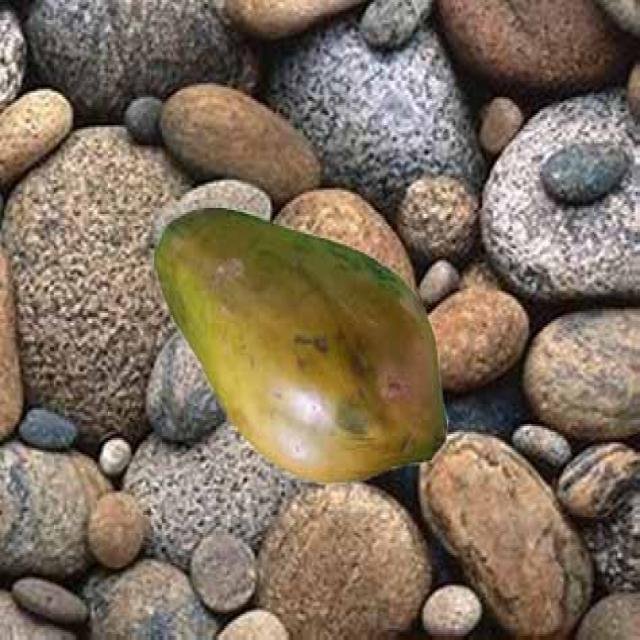Pepaya rippen: (162, 192, 450, 492)
